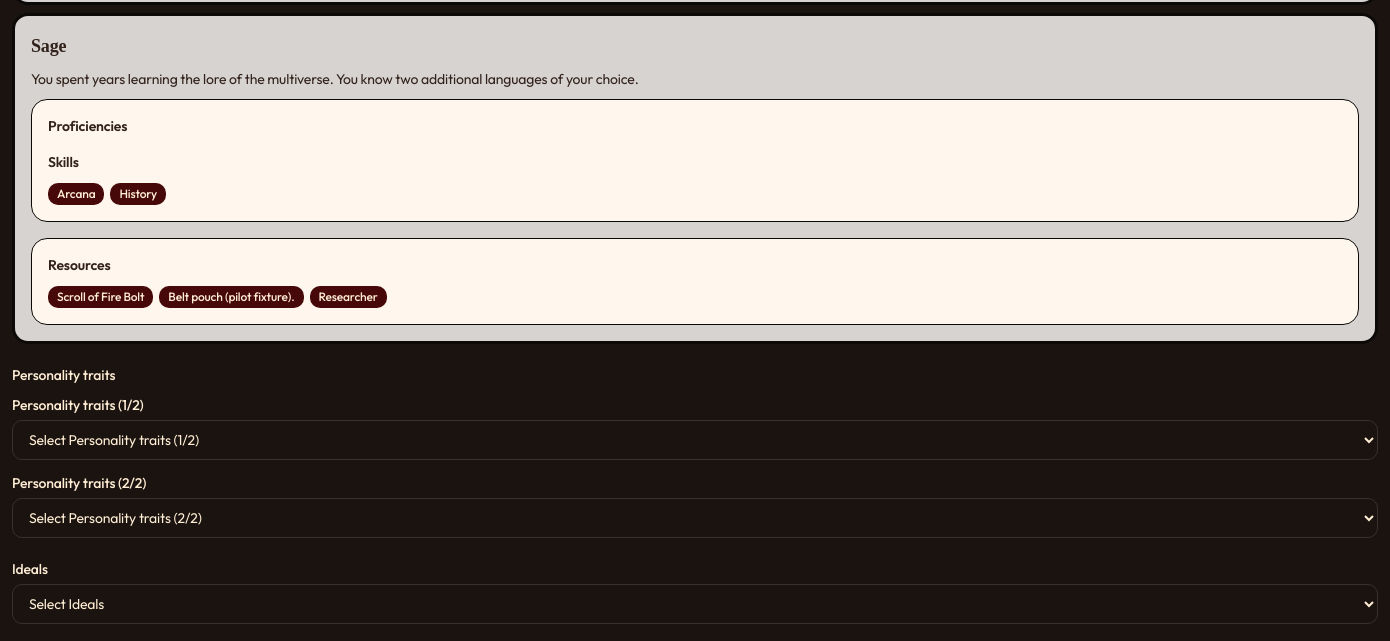
BackgroundSelectionPage flavor pickers › writes a Sage catalog label into ideals
Select "Truth first: a beautiful lie is still a lie." in the dropdown labelled "Ideals" at (695, 604), box [12,584,1378,624]
(page scrolled)
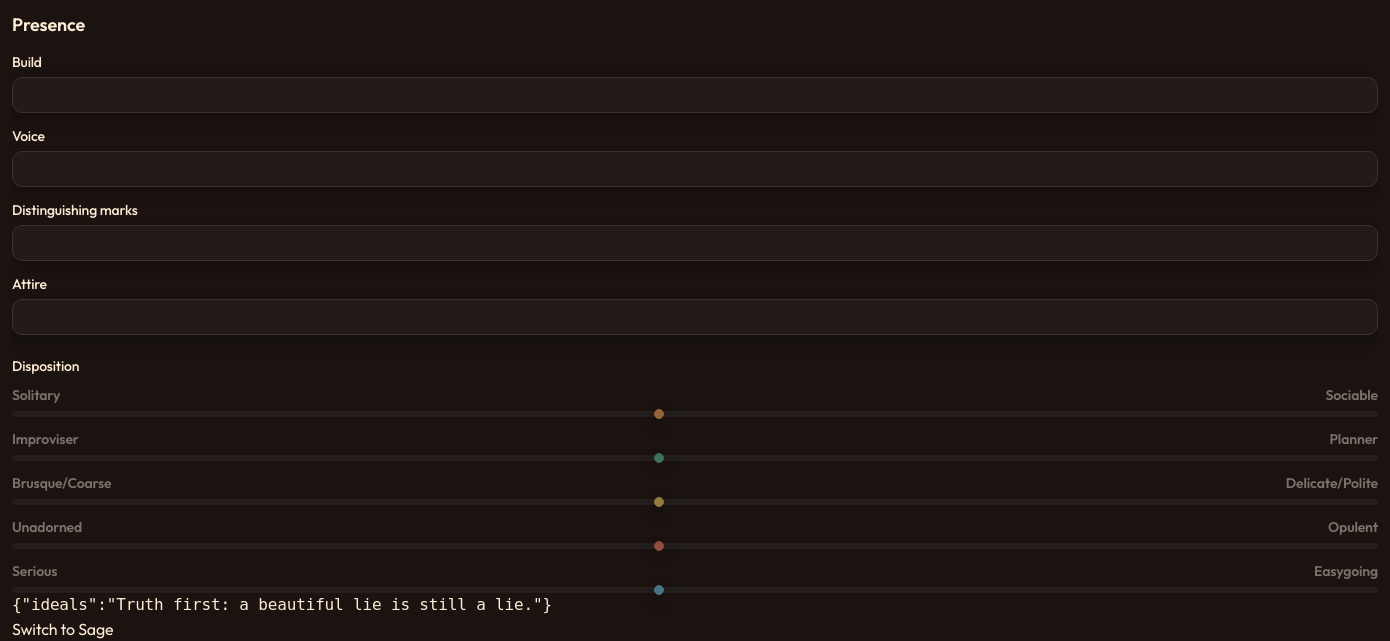
Expected: the text with test id "form-output" shows "Truth first: a beautiful lie is still a lie.", [12,595,552,614]
